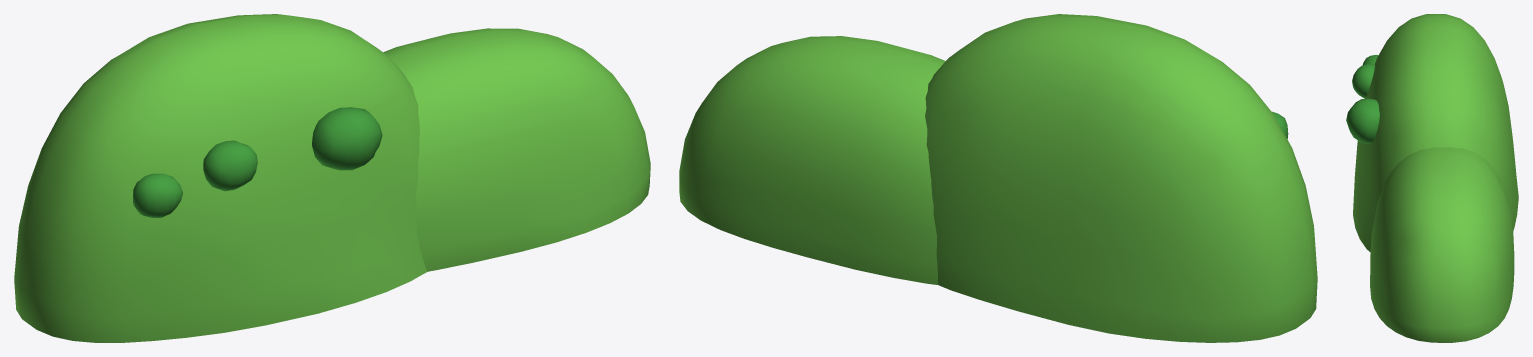
File: hill_b.glb
3 views of the same model, side by side, from view 1: azimuth 30°, elevation 25°; view 2: azimuth 150°, elevation 25°; view 3: azimuth 270°, elevation 25° (orthographic). The views are drawn at different scales.
Visible parts, largest first — view 1: hill_b; view 2: hill_b; view 3: hill_b.
Boxes of the visible parts, left/top/right/bottom form: hill_b: left=14, top=14, right=650, bottom=342; hill_b: left=679, top=14, right=1317, bottom=342; hill_b: left=1346, top=14, right=1518, bottom=342.
Bounding box in the file's own units: 24.08 × 9.38 × 8.6.
